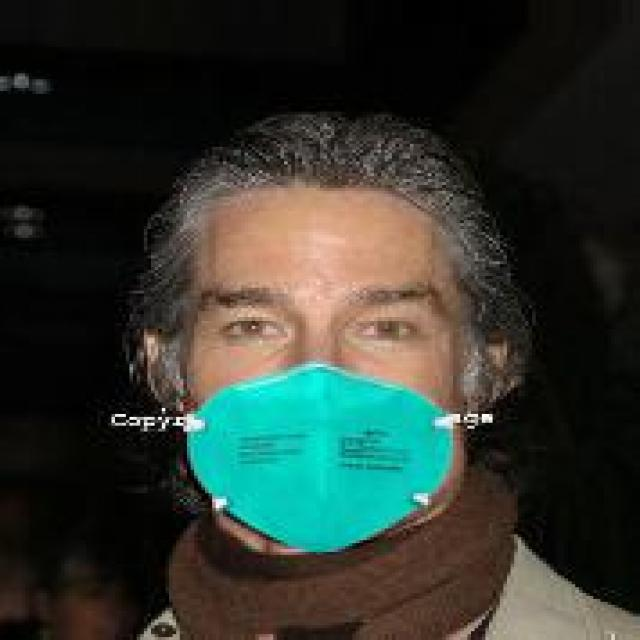mask: (72, 103, 521, 593)
